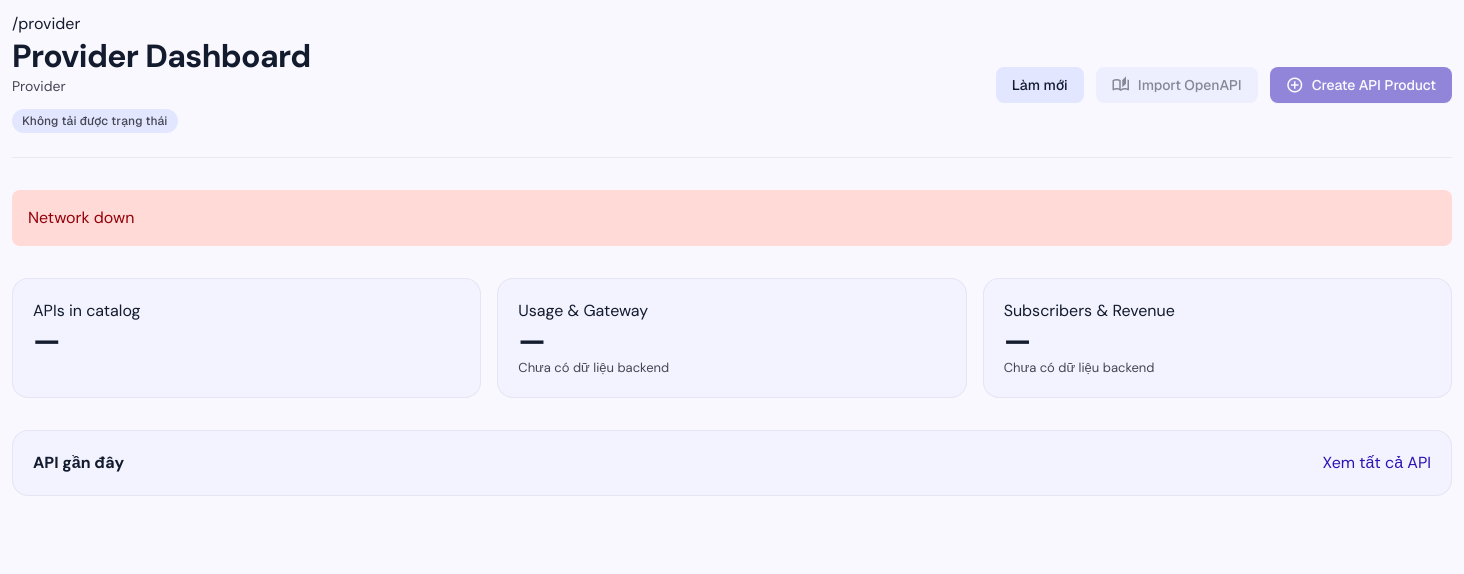
Test: Dashboard distinguishes a failed read from unverified and retries without mock fallback
This screenshot has width=1464, height=574.
Expected: the message "Network down" is shown, [12,190,1452,246]
Expected: the button "Create API Product" is disabled, [1270,66,1452,102]
Step 1. Click the button "Làm mới" → (1040, 84), box [996,66,1084,102]
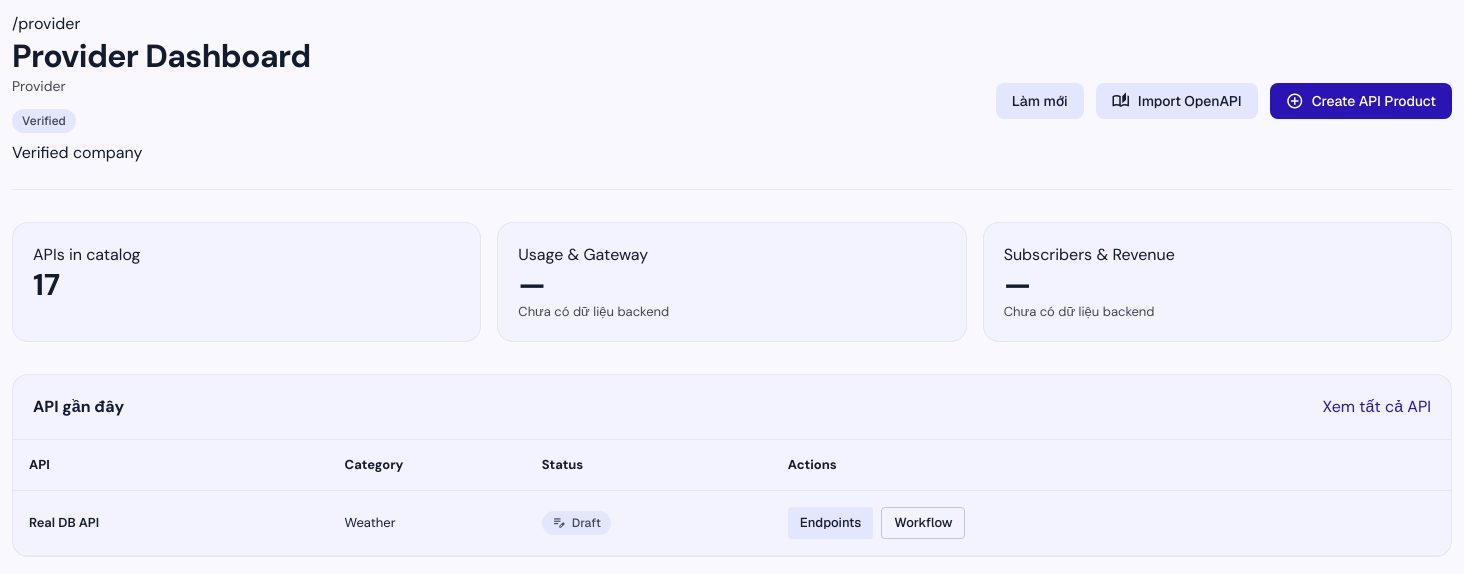
Expected: the text "Verified" is shown, [22,113,66,129]
Expected: the message "Network down" is gone
